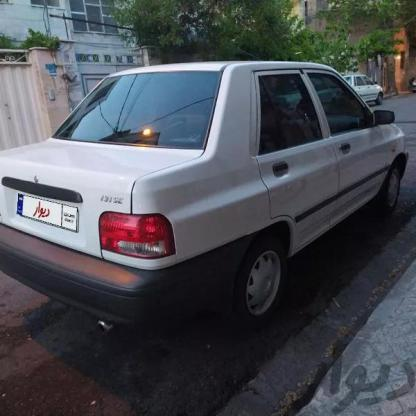Car: (0, 55, 416, 314), (333, 61, 401, 121)
